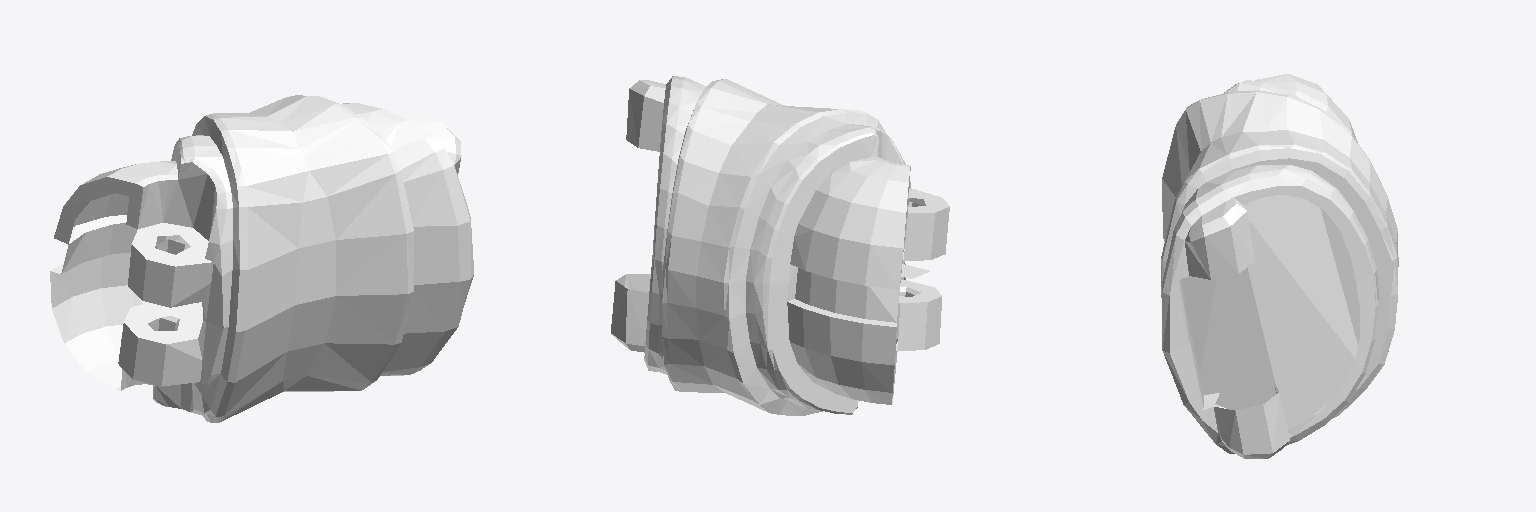
The picture shows the model from 3 angles: view 1: azimuth 30°, elevation 25°; view 2: azimuth 150°, elevation 25°; view 3: azimuth 270°, elevation 25°; orthographic projection.
Parts seen in each view (by area): view 1: LFinger12_LPhalax_2; view 2: LFinger12_LPhalax_2; view 3: LFinger12_LPhalax_2.
Boxes of the visible parts, <box> form: LFinger12_LPhalax_2: <box>50,95,473,422</box>; LFinger12_LPhalax_2: <box>611,76,949,415</box>; LFinger12_LPhalax_2: <box>1161,74,1398,458</box>.
Bounding box in the file's own units: 0.1938 × 0.16 × 0.1192.
Materials: 1 (1 with a texture image).